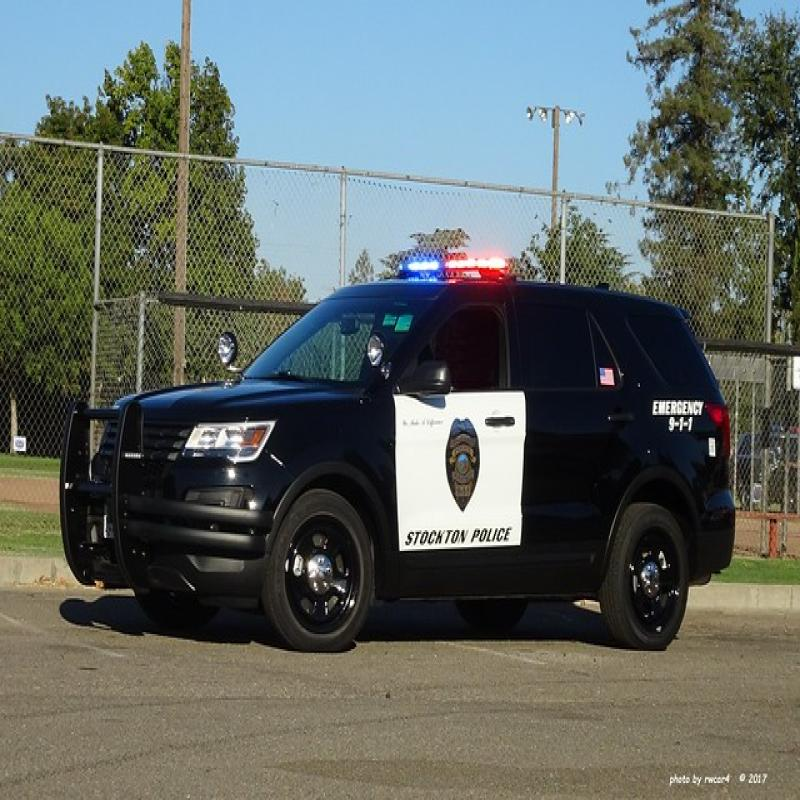AmbulanceSiren: (385, 246, 517, 285)
